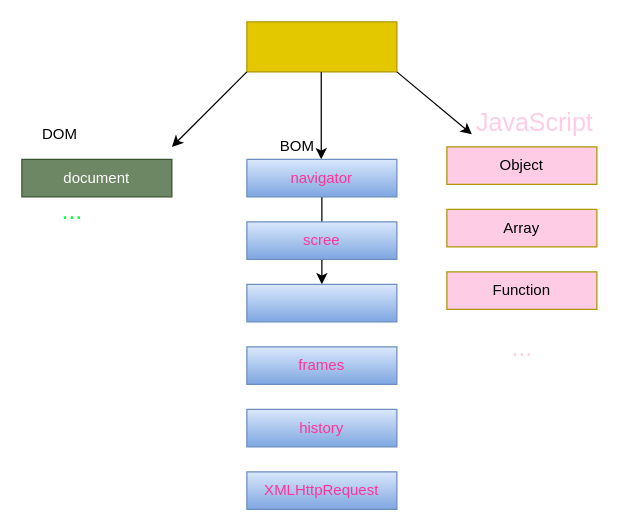
Some shapes in this 625 by 531 pixel diagram are drawn without their labels. The shapes that lost their labels are listed below. From the top down, each one's centre as x and y in pixels, then its label:
At (321,46): "window".
At (321,302): "location".
